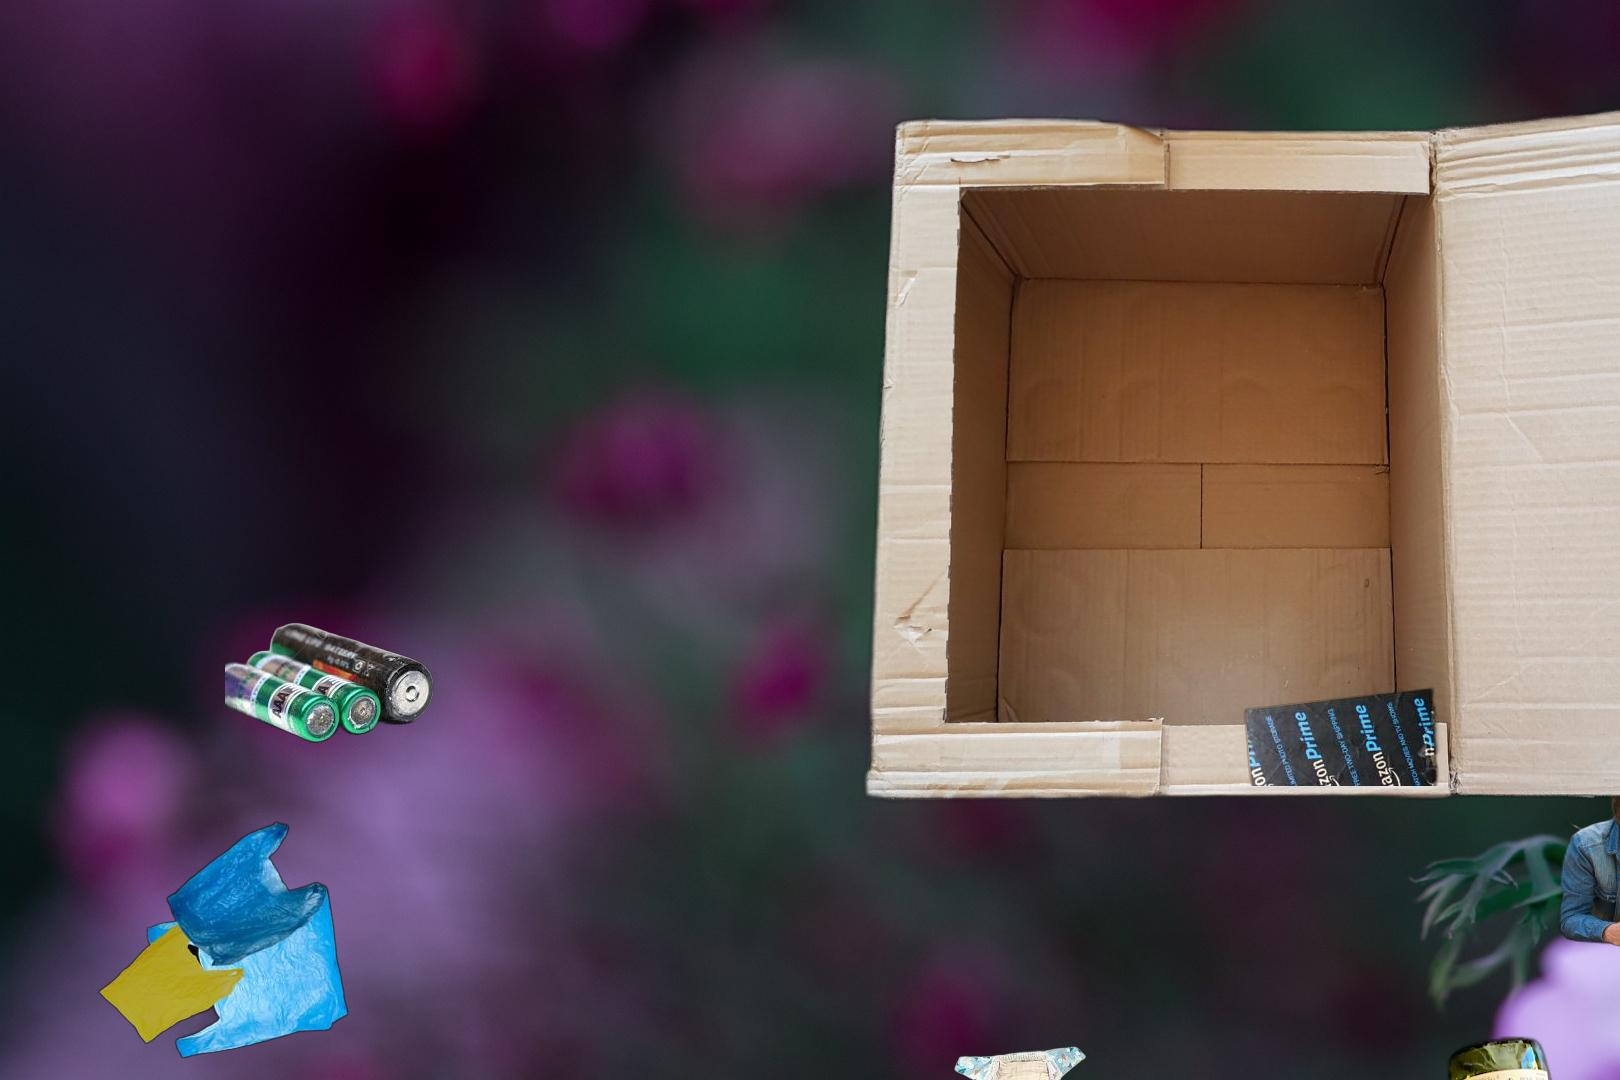battery: (225, 620, 436, 746)
clothes: (1559, 397, 1620, 749)
glass: (1443, 1031, 1581, 1080)
plastic-bag: (94, 820, 351, 1061)
trash: (951, 1044, 1091, 1080)
trashbox-cardboard: (856, 90, 1620, 809), (1116, 685, 1449, 786), (1552, 761, 1620, 953)
